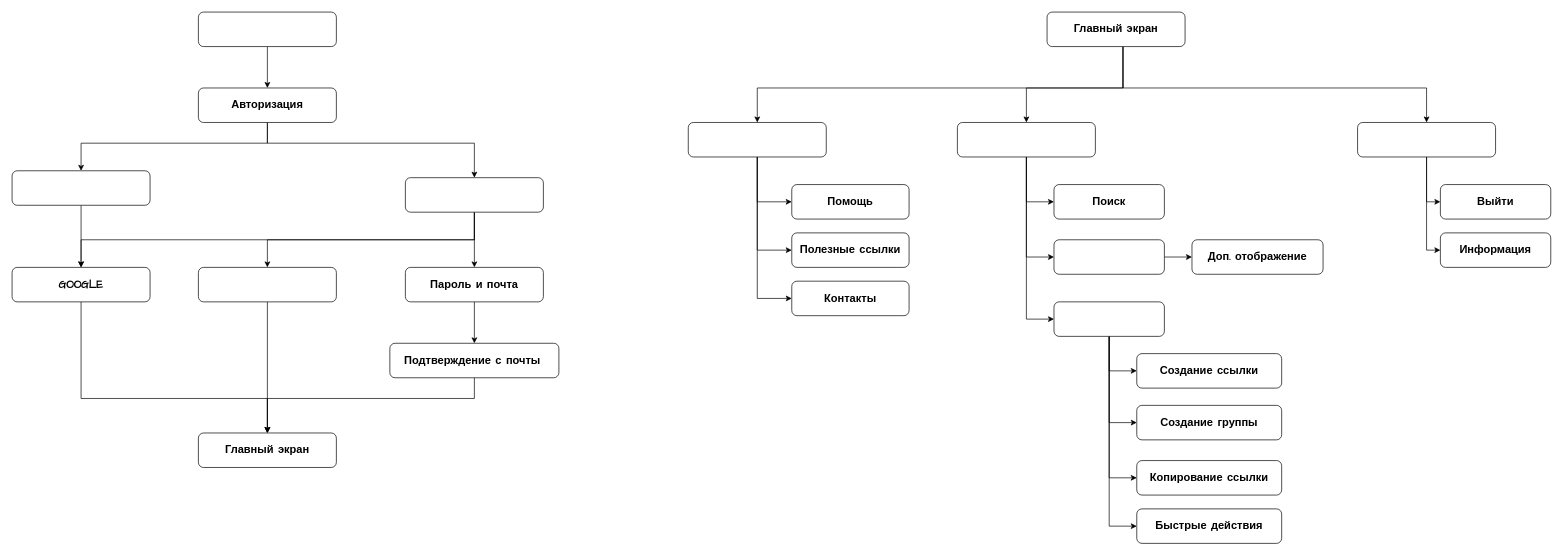
The diagram is 1563 pixels wide and 555 high, and some of its shapes have lost their labels. Here are the shapes that lost their labels. From the top down, the centre of each, then its label:
the point at 267,29: Приложение
the point at 757,139: Обновления & FAQ
the point at 1026,139: Дашборд
the point at 1426,139: Настройки
the point at 80,187: Вход
the point at 474,194: Регистрация
the point at 1108,256: Отображение
the point at 267,284: GITHUB
the point at 1108,318: Ссылки
